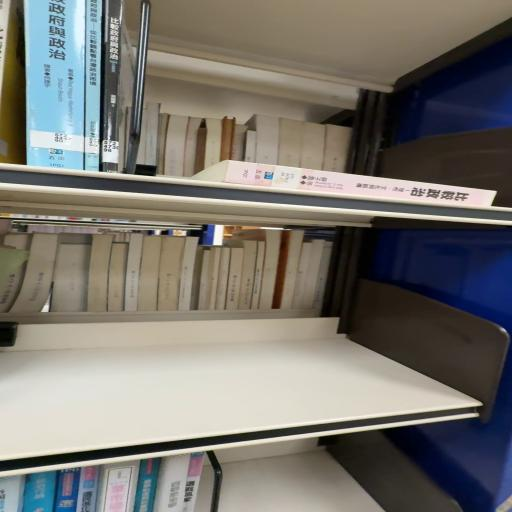flat: (190, 160, 496, 206)
